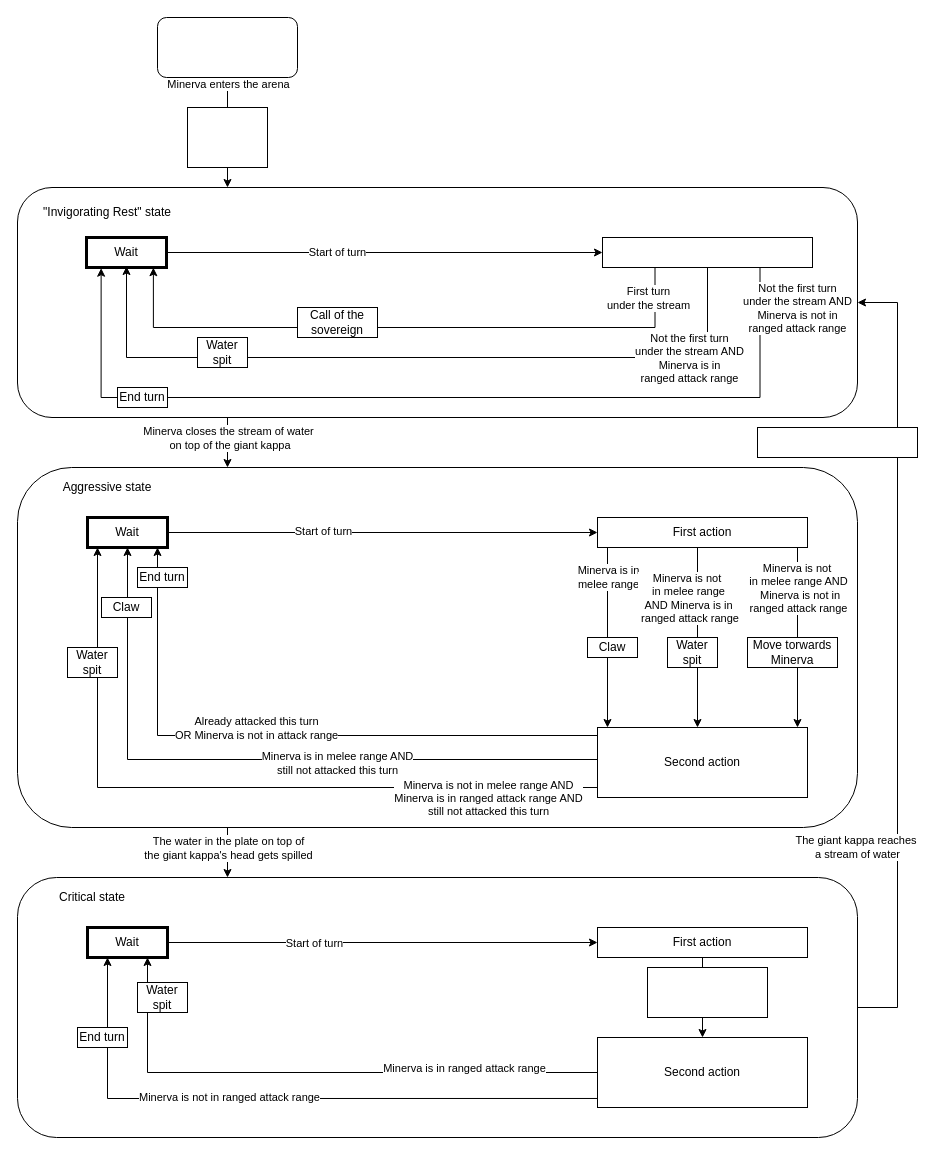
Image size: 937x1155. Some labels were removed from this diagram. Here are the shapes that lost their labels. From the top down, the box of each, then its label:
(156, 16, 298, 78): Idle
(186, 106, 268, 168): The giant kappa engages Minerva
(602, 236, 812, 268): Action
(756, 426, 918, 458): The giant kappa refills the plate on top of its head
(646, 966, 768, 1018): Move towards the closest stream of water
